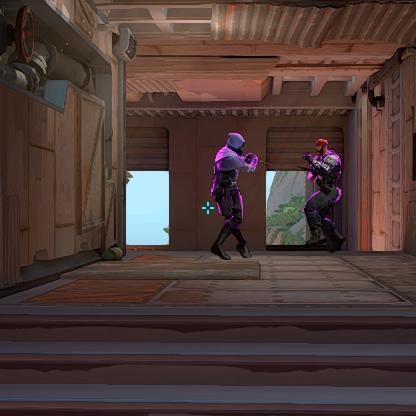enemyBody: (217, 152, 236, 184), (317, 155, 333, 178)
enemyHead: (229, 136, 242, 150), (316, 142, 326, 154)
